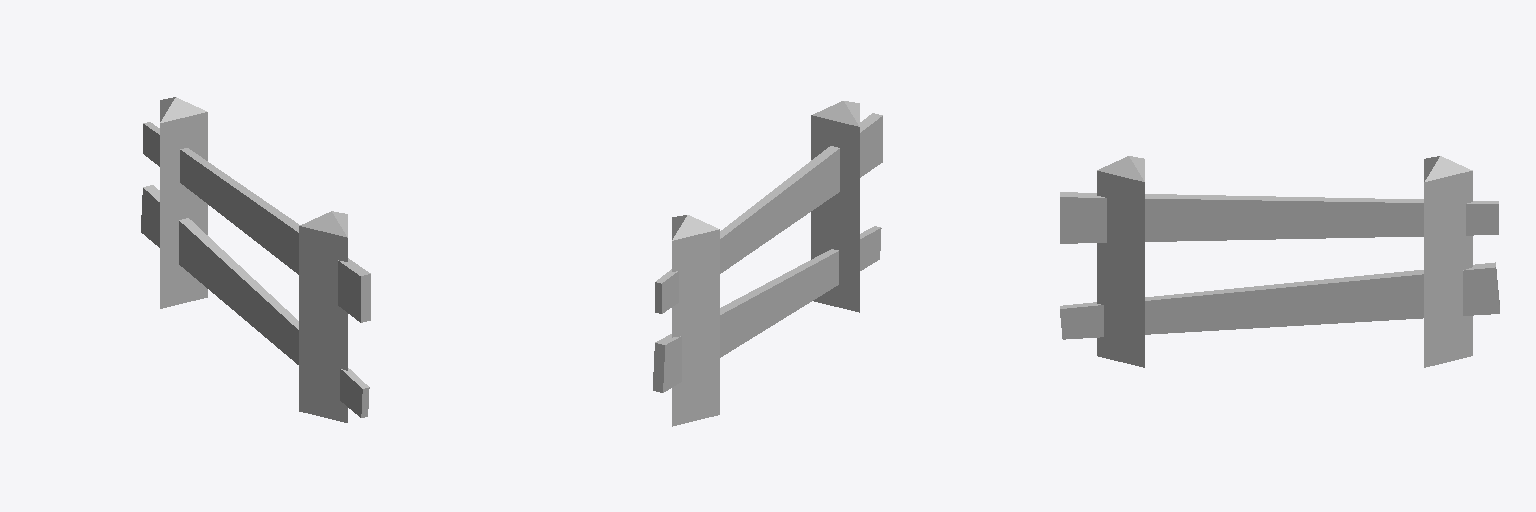
The model's file is Fence.obj.
3 renders of one model, left to right at view 1: azimuth 30°, elevation 25°; view 2: azimuth 150°, elevation 25°; view 3: azimuth 270°, elevation 25°, orthographic.
Visible parts, largest first — view 1: Cylinder.001_Cylinder.002, Cube.001_Cube.002, Cube_Cube.001, Cylinder_Cylinder.001; view 2: Cylinder_Cylinder.001, Cube_Cube.001, Cube.001_Cube.002, Cylinder.001_Cylinder.002; view 3: Cube_Cube.001, Cube.001_Cube.002, Cylinder_Cylinder.001, Cylinder.001_Cylinder.002.
Boxes of the visible parts, x1,y1,x2,y2 form: Cylinder.001_Cylinder.002: [299, 211, 347, 422]; Cube.001_Cube.002: [141, 185, 369, 417]; Cube_Cube.001: [143, 122, 370, 322]; Cylinder_Cylinder.001: [160, 97, 207, 308]; Cylinder_Cylinder.001: [672, 215, 719, 426]; Cube_Cube.001: [655, 113, 882, 313]; Cube.001_Cube.002: [653, 226, 881, 392]; Cylinder.001_Cylinder.002: [811, 101, 859, 312]; Cube_Cube.001: [1060, 192, 1498, 243]; Cube.001_Cube.002: [1060, 262, 1499, 339]; Cylinder_Cylinder.001: [1424, 156, 1472, 367]; Cylinder.001_Cylinder.002: [1097, 156, 1144, 367].
Bounding box in the file's own units: 1.73 × 6.87 × 13.7.